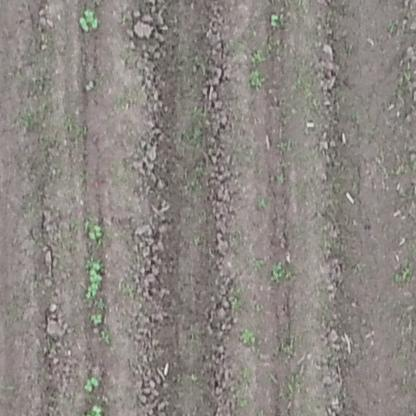vc: (75, 6, 103, 31), (86, 262, 106, 281), (82, 373, 101, 392), (86, 224, 105, 241), (268, 11, 283, 30), (90, 311, 106, 326)
